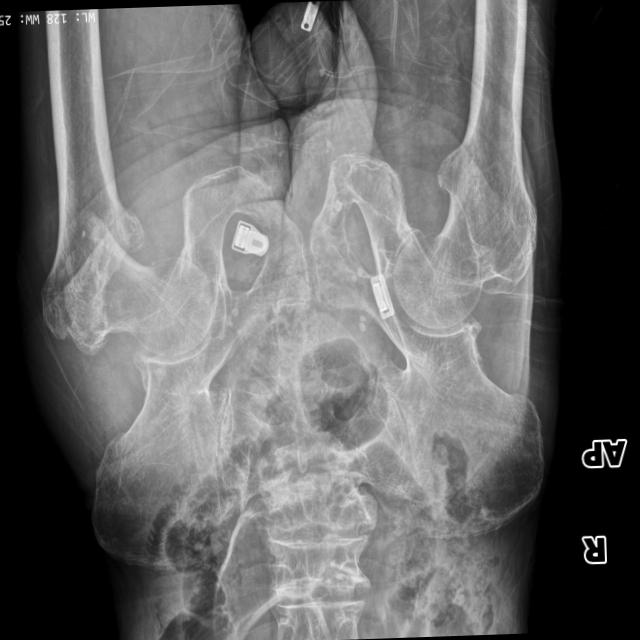left-intertrochanteric: (38, 133, 144, 355), (86, 207, 211, 355)
normal-right: (392, 73, 536, 328)
